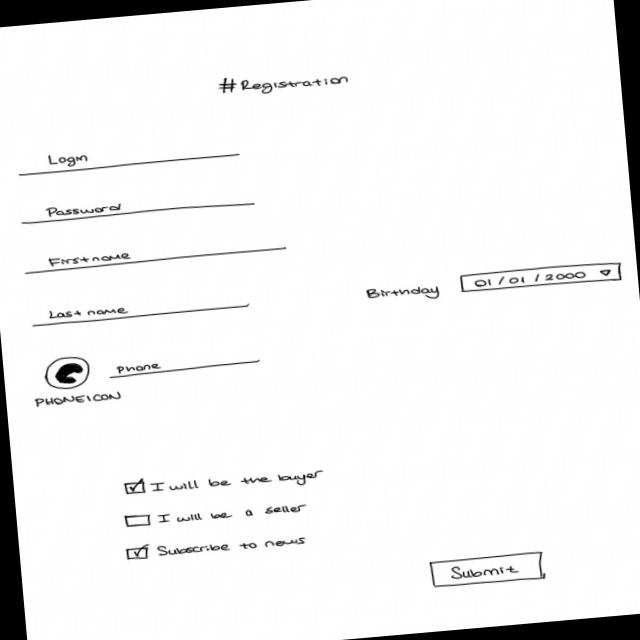button: (428, 550, 548, 591)
checkbox: (122, 461, 326, 502), (124, 498, 310, 531), (125, 530, 308, 562)
icon-button: (44, 354, 94, 391)
input: (22, 235, 290, 277), (15, 137, 242, 179), (19, 189, 258, 228), (29, 290, 254, 330), (107, 351, 262, 381)
label: (215, 66, 352, 100), (364, 279, 445, 306), (32, 389, 125, 411)
select: (459, 260, 625, 296)
